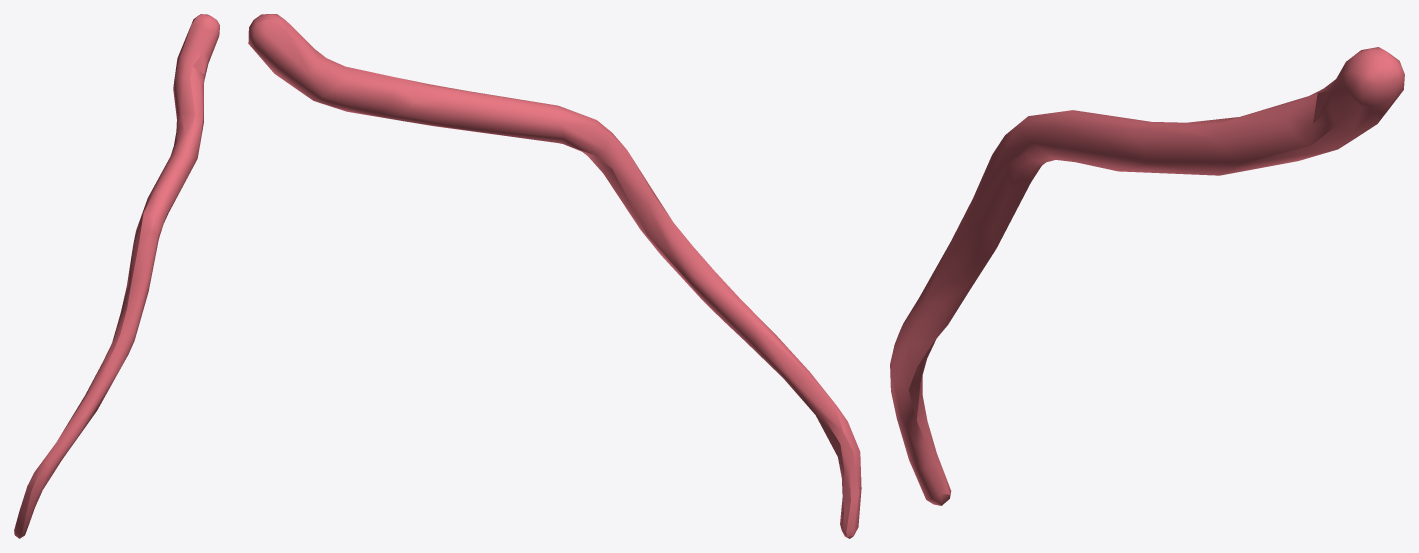
Rendered from fma66403_fj2658.glb.
3 views of the same model, side by side, from view 1: azimuth 30°, elevation 25°; view 2: azimuth 150°, elevation 25°; view 3: azimuth 270°, elevation 25° (orthographic). The views are drawn at different scales.
Visible parts, largest first — view 1: FMA66403_FJ2658; view 2: FMA66403_FJ2658; view 3: FMA66403_FJ2658.
Part boxes in pixels (x1=…): FMA66403_FJ2658: x1=14, y1=14, x2=219, y2=538; FMA66403_FJ2658: x1=248, y1=14, x2=861, y2=538; FMA66403_FJ2658: x1=890, y1=47, x2=1404, y2=505.
Bounding box in the file's own units: 0.0171 × 0.0195 × 0.0123.
